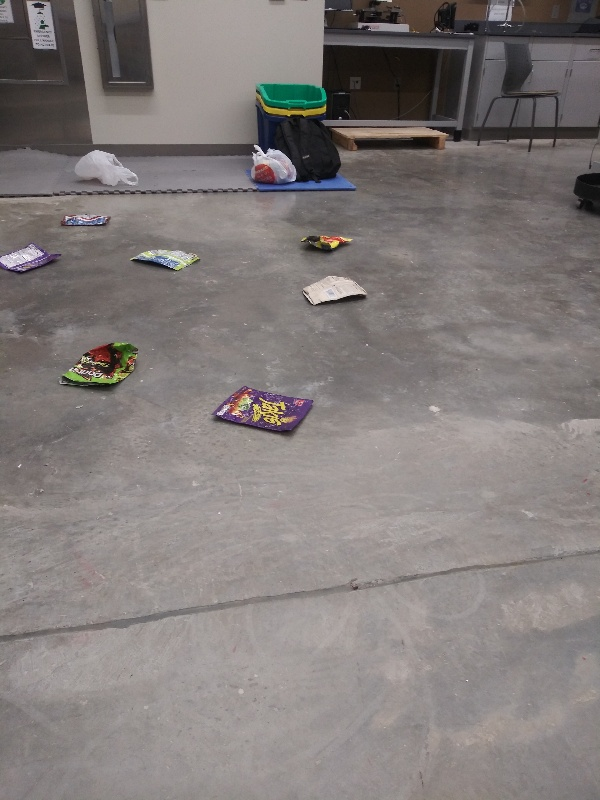bag: (211, 382, 318, 440), (57, 336, 144, 393), (296, 273, 376, 306), (1, 239, 67, 277), (127, 244, 203, 273), (299, 229, 355, 254), (57, 210, 116, 229)
